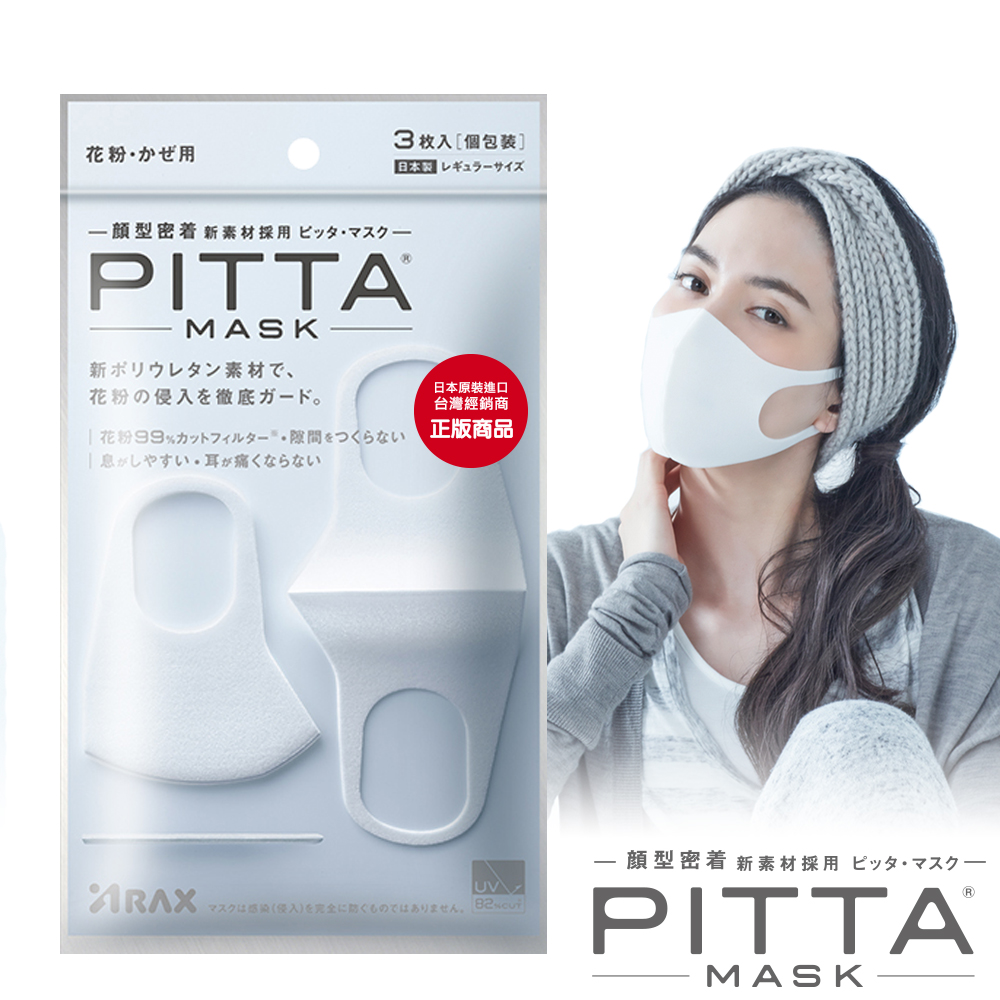Mask: (620, 174, 870, 475)
